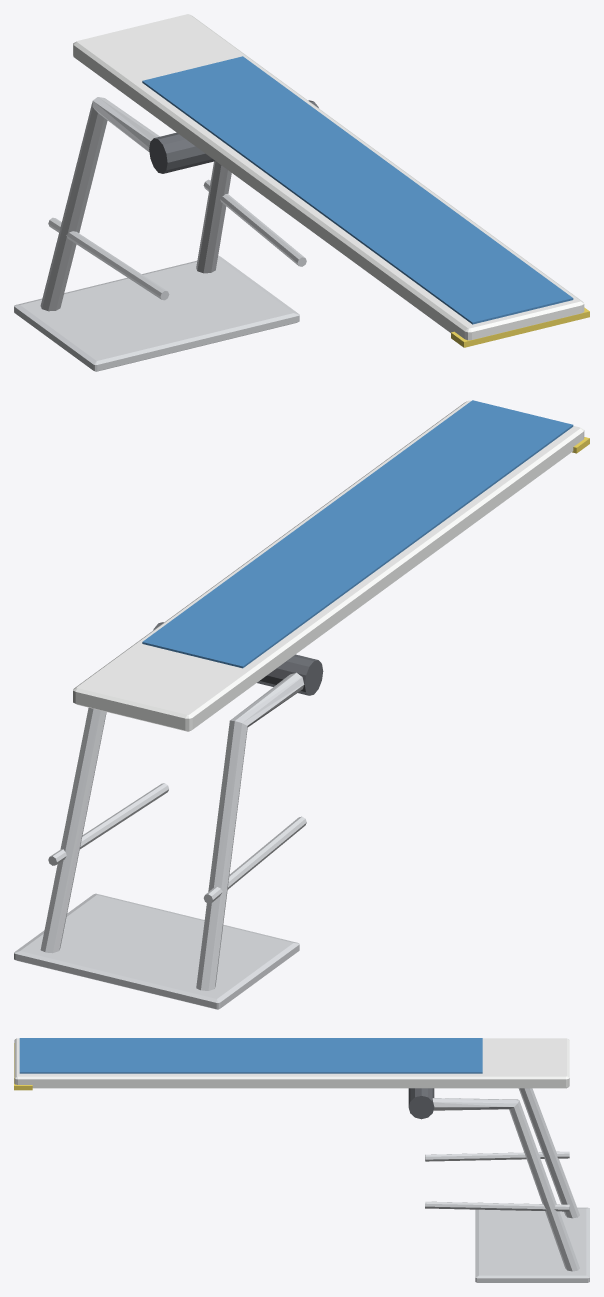
Rendered from public-swimming-baths-and-poolside-poolside-diving-boa-7d186213__35249.glb.
The picture shows the model from 3 angles, top to bottom: view 1: azimuth 30°, elevation 25°; view 2: azimuth 150°, elevation 25°; view 3: azimuth 270°, elevation 25°; orthographic projection. The views are drawn at different scales.
Visible parts, largest first — view 1: board-plank/blue, poolside-diving-board, board-plank/white, board-plank/yellow; view 2: board-plank/blue, poolside-diving-board, board-plank/white; view 3: board-plank/blue, poolside-diving-board, board-plank/white.
Boxes of the visible parts, x1,y1,x2,y2 form: board-plank/blue: [142, 56, 573, 324]; poolside-diving-board: [14, 97, 318, 371]; board-plank/white: [73, 14, 584, 340]; board-plank/yellow: [451, 307, 589, 347]; board-plank/blue: [142, 400, 573, 668]; poolside-diving-board: [14, 622, 323, 1009]; board-plank/white: [73, 400, 584, 731]; board-plank/blue: [19, 1038, 482, 1073]; poolside-diving-board: [408, 1088, 589, 1282]; board-plank/white: [14, 1038, 569, 1088].
Bounding box in the file's own units: 0.9 × 1.15 × 3.11.
